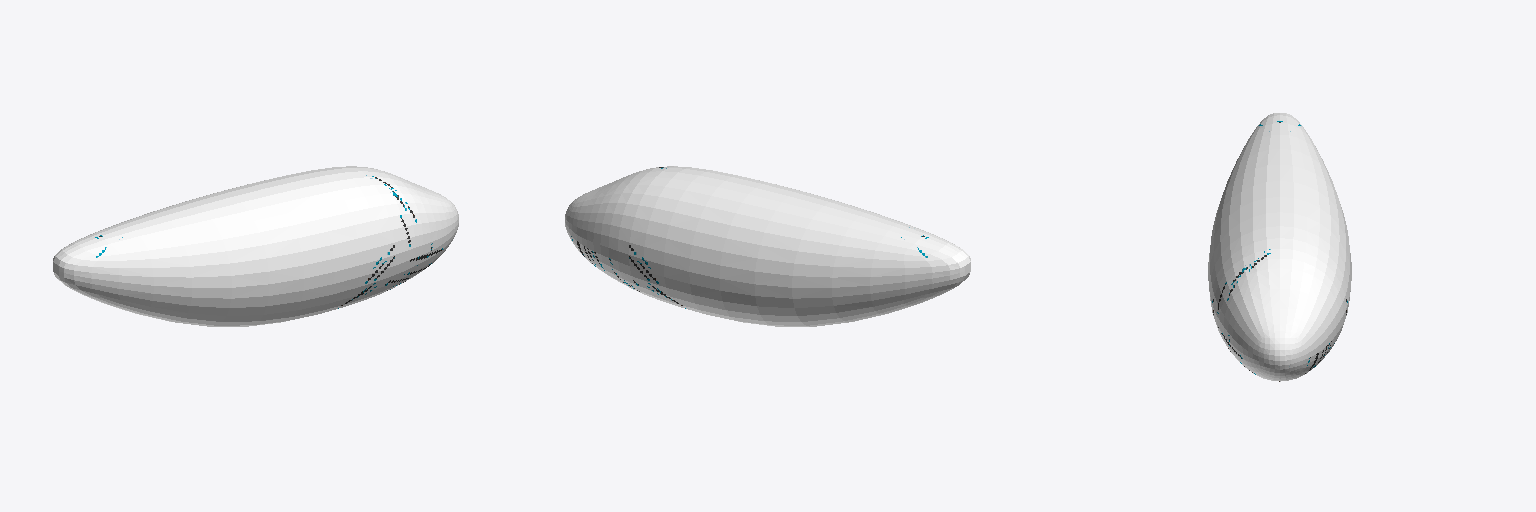
3 views of the same model, side by side, from view 1: azimuth 30°, elevation 25°; view 2: azimuth 150°, elevation 25°; view 3: azimuth 270°, elevation 25° (orthographic).
Parts seen in each view (by area): view 1: body; view 2: body; view 3: body.
Boxes of the visible parts, box(x1,y1,x2,y2) form: body: box(53, 166, 458, 326); body: box(565, 166, 970, 326); body: box(1208, 113, 1351, 381).
Size of the model in its own units: 579 by 180 by 180.
Materials: 1 (1 with a texture image).